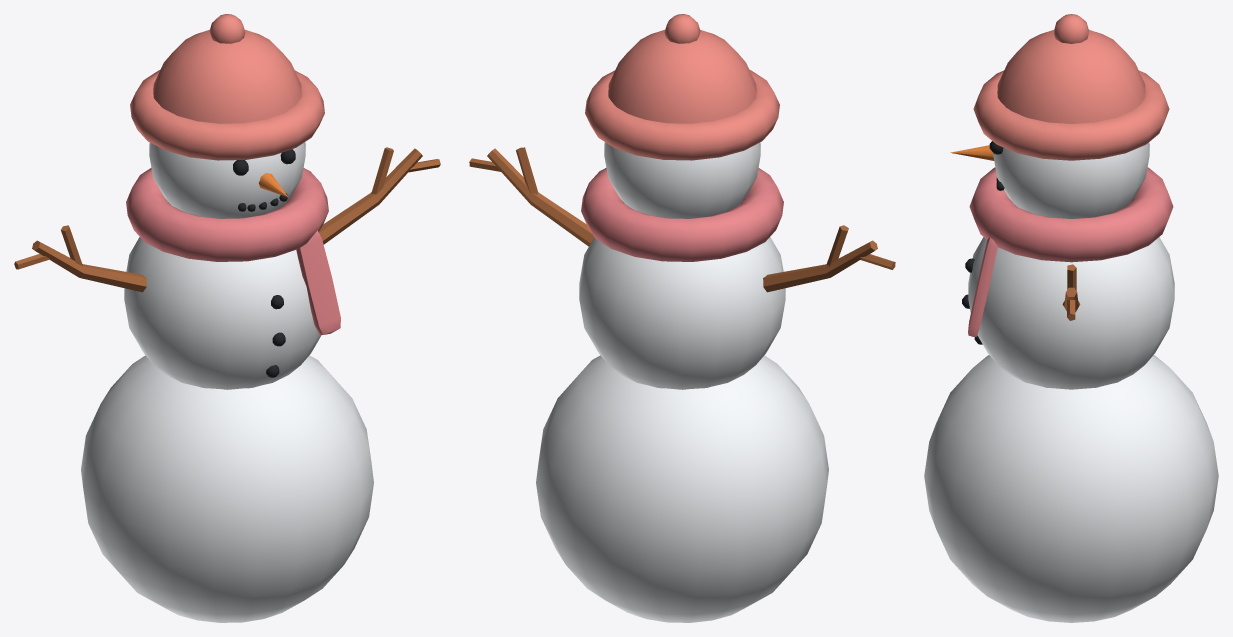
The model's file is Snowman.glb.
3 views of the same model, side by side, from view 1: azimuth 30°, elevation 25°; view 2: azimuth 150°, elevation 25°; view 3: azimuth 270°, elevation 25° (orthographic).
Parts seen in each view (by area): view 1: Snowman; view 2: Snowman; view 3: Snowman.
Boxes of the visible parts, left/top/right/bottom form: Snowman: left=14, top=14, right=440, bottom=622; Snowman: left=469, top=14, right=895, bottom=622; Snowman: left=924, top=14, right=1218, bottom=622.
Size of the model in its own units: 8.61 by 11.27 by 5.2.
Materials: 1 (1 with a texture image).
